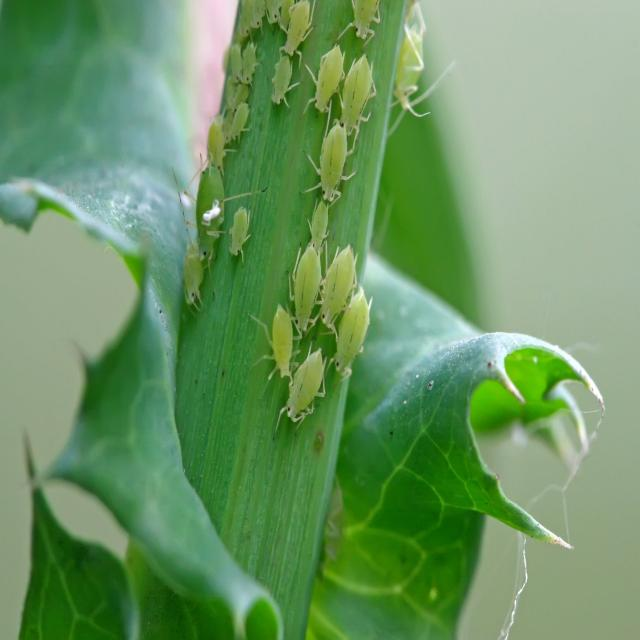aphid: (302, 116, 359, 220), (328, 290, 380, 396), (284, 230, 327, 340), (330, 49, 376, 139), (279, 353, 330, 433), (230, 210, 253, 262)
